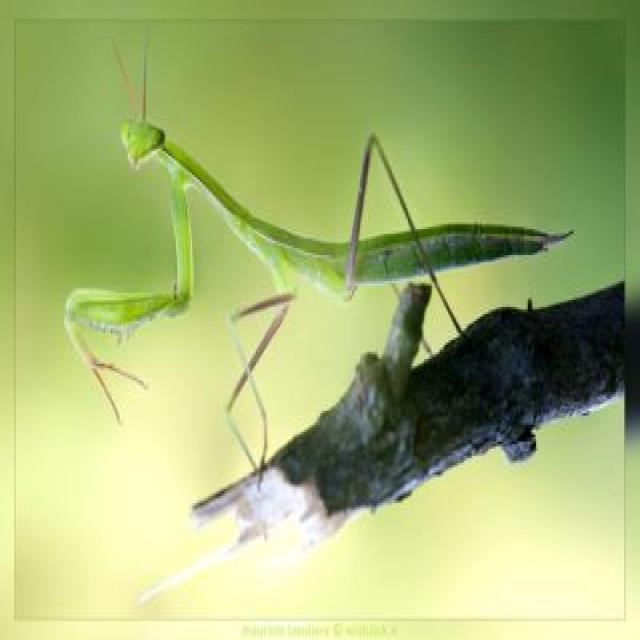antennae: (111, 36, 141, 116), (143, 38, 148, 120)
body: (121, 123, 578, 290)
insect: (62, 36, 575, 478)
legs: (63, 178, 193, 426), (342, 133, 470, 341), (223, 256, 299, 484), (225, 283, 293, 469), (388, 281, 435, 359)
mouthpart: (125, 147, 138, 172)
